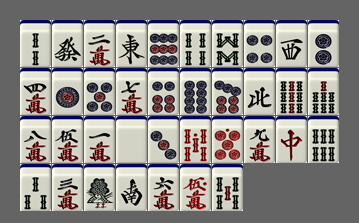0m: (180, 164, 211, 211)
0p: (212, 116, 243, 163)
0s: (180, 116, 211, 163)
1m: (84, 116, 115, 163)
1p: (52, 68, 83, 115)
1s: (84, 164, 115, 211)
1z: (116, 20, 147, 67)
2m: (84, 20, 115, 67)
2p: (308, 20, 339, 67)
2s: (20, 20, 51, 67)
2z: (116, 164, 147, 211)
3m: (52, 164, 83, 211)
3p: (148, 116, 179, 163)
3s: (20, 164, 51, 211)
3z: (276, 20, 307, 67)
4m: (20, 68, 51, 115)
4p: (244, 20, 275, 67)
4s: (180, 20, 211, 67)
4z: (244, 68, 275, 115)
5m: (52, 116, 83, 163)
5p: (84, 68, 115, 115)
5s: (212, 164, 243, 211)
5z: (116, 116, 147, 163)
6m: (148, 164, 179, 211)
6p: (148, 68, 179, 115)
6s: (308, 116, 339, 163)
6z: (52, 20, 83, 67)
7m: (116, 68, 147, 115)
7p: (212, 68, 243, 115)
7s: (308, 68, 339, 115)
7z: (276, 116, 307, 163)
8m: (20, 116, 51, 163)
8p: (180, 68, 211, 115)
8s: (212, 20, 243, 67)
9m: (244, 116, 275, 163)
9p: (148, 20, 179, 67)
9s: (276, 68, 307, 115)
